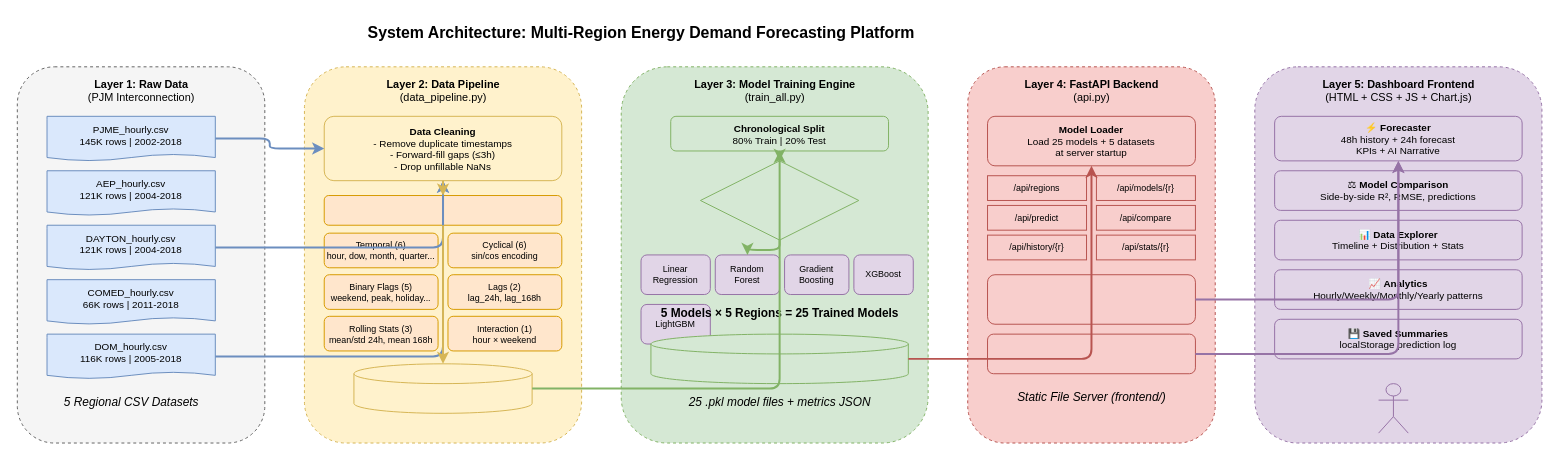
This 1559x470 diagram has some shape labels left out. Each missing label, with the box of its shape:
5 Processed CSVs 23 features + target per region: (353, 363, 532, 413)
AI Narrative Engine Contextual demand analysis with anomaly detection: (987, 274, 1195, 324)
Feature Engineering (23 Features): (323, 195, 562, 225)
Grid Operator / User: (1378, 383, 1408, 433)
GridSearchCV 3-Fold TimeSeriesSplit (Leak-Free Validation): (699, 160, 859, 240)
Metrics (R², RMSE, MAE, MAPE) Best: R²=0.8647 (PJME, GB): (650, 333, 908, 384)
Simulation Module Holiday Override | Outage Sim: (987, 333, 1195, 374)
